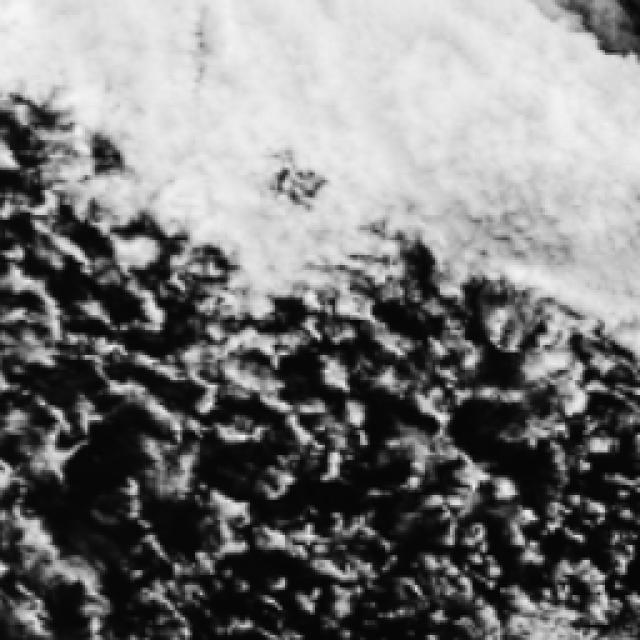CB: (314, 8, 512, 165), (107, 4, 300, 137), (468, 77, 635, 225), (165, 112, 378, 222)
